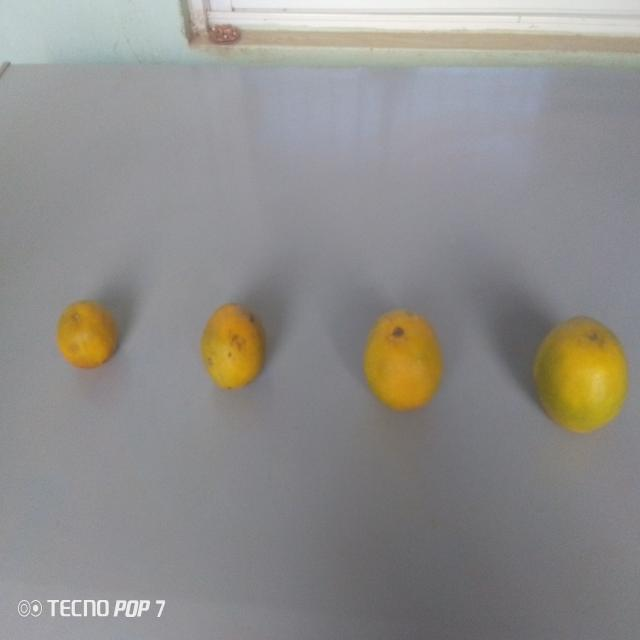Ripe orange: (528, 308, 628, 438), (361, 303, 449, 420), (197, 297, 266, 392), (55, 294, 120, 379)
